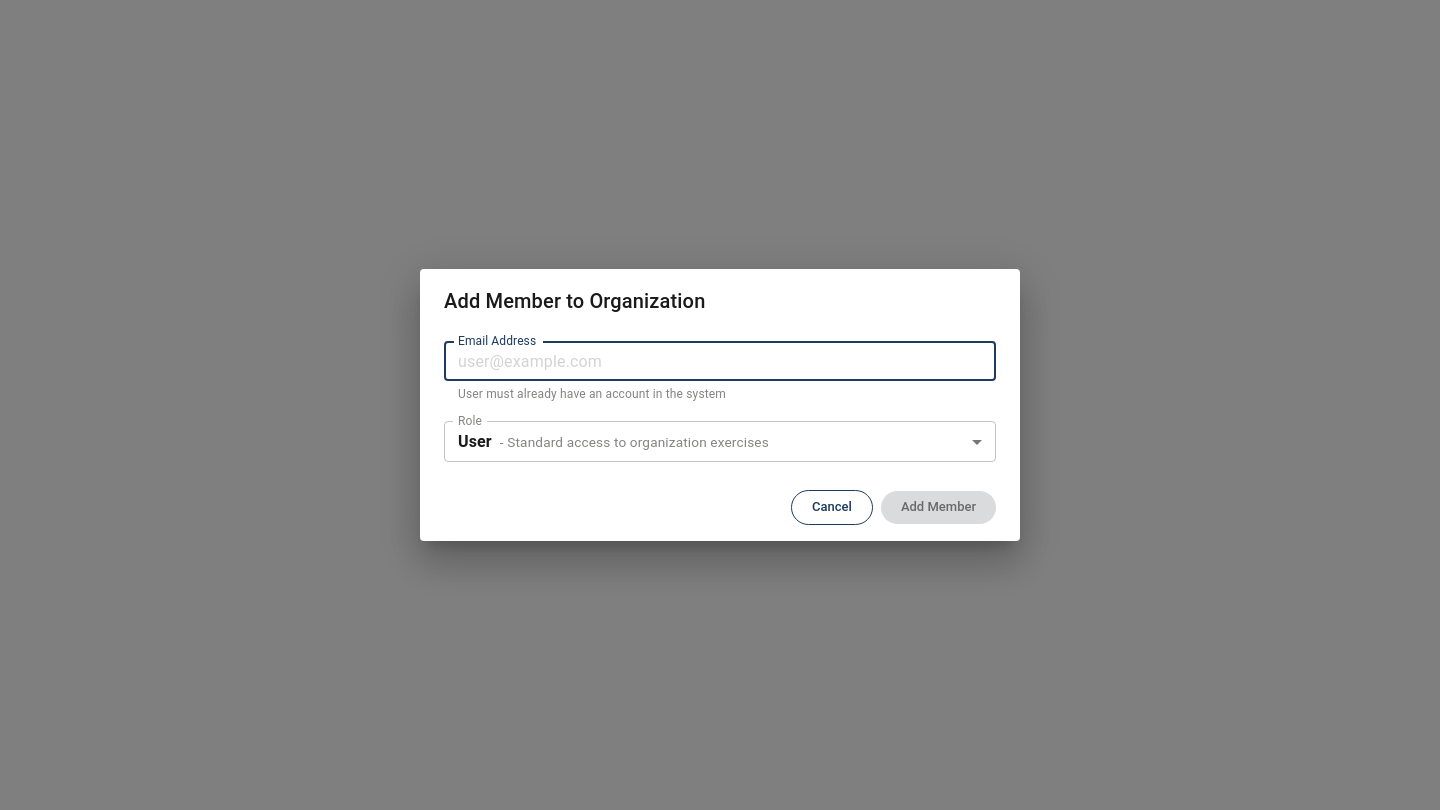
Test: AddMemberDialog › Form Validation › enables add button when email has value
The image size is (1440, 810).
In the field labelled "Email Address": (720, 361) [444,341,996,381], type "test@example.com"
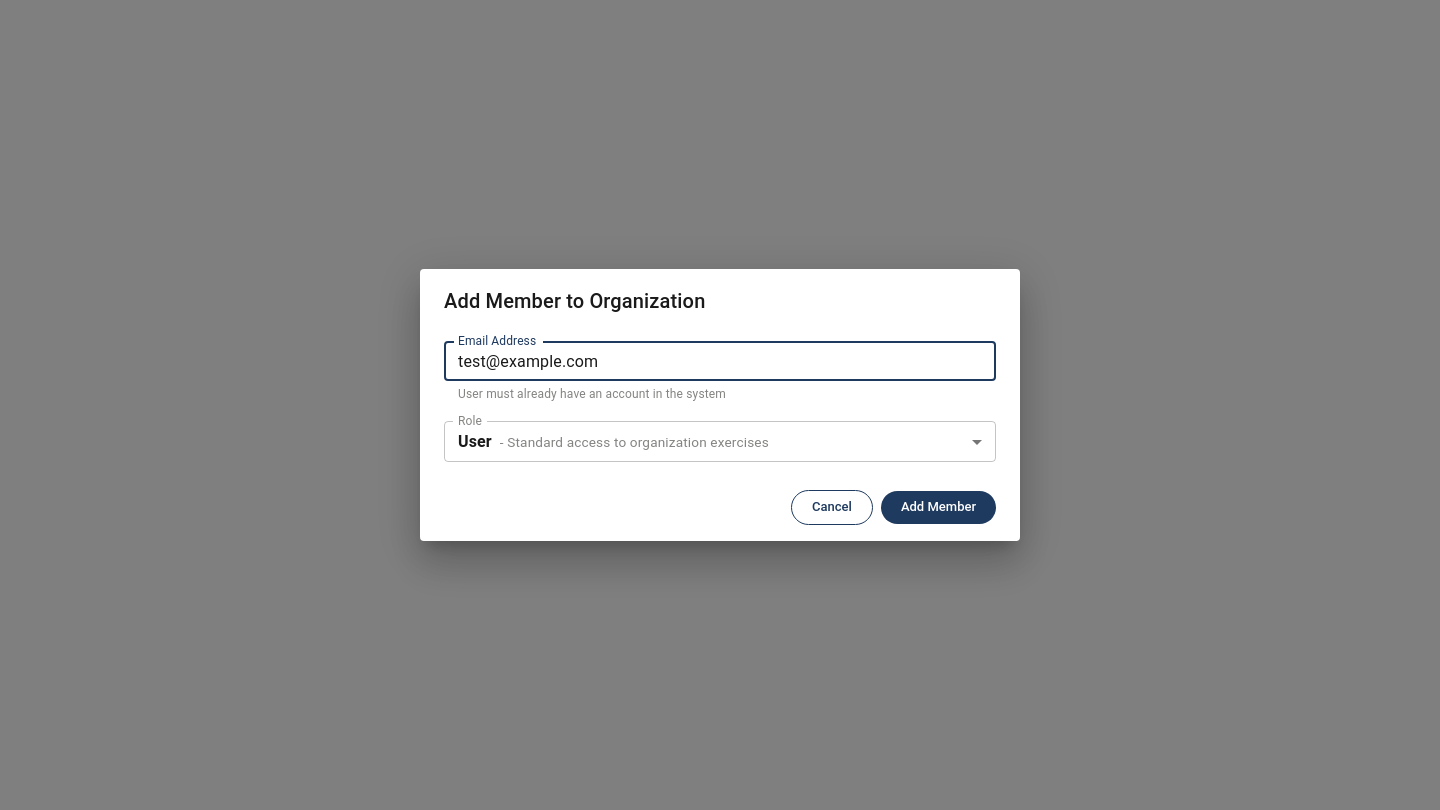
expect the button "Add Member" is enabled: met, box [881,491,996,524]
